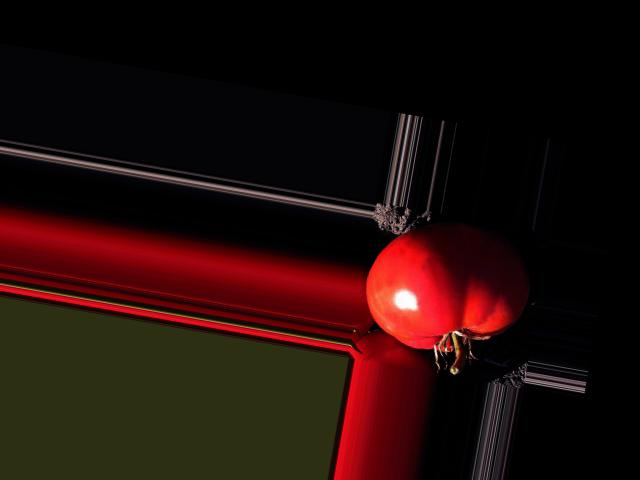tomato: (357, 207, 539, 364)
